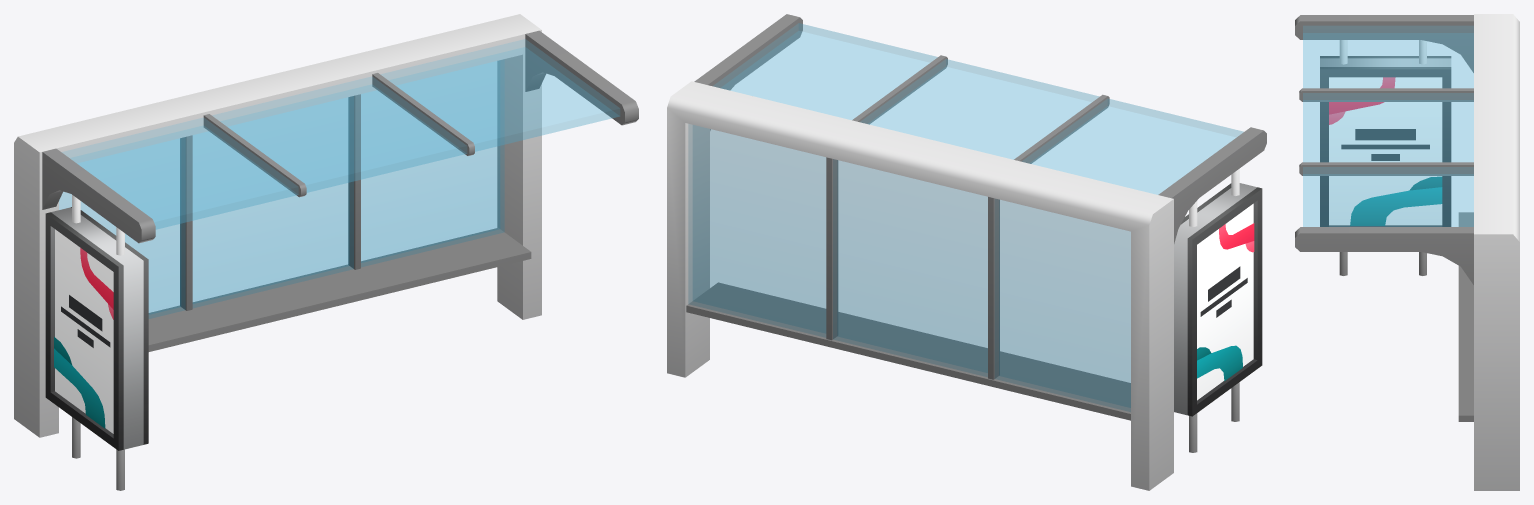
Rendered from Bus_Stop_02.glb.
The picture shows the model from 3 angles, left to right: view 1: azimuth 30°, elevation 25°; view 2: azimuth 150°, elevation 25°; view 3: azimuth 270°, elevation 25°; orthographic projection. The views are drawn at different scales.
Visible parts, largest first — view 1: Bus_Stop_02; view 2: Bus_Stop_02; view 3: Bus_Stop_02.
Boxes of the visible parts, x1,y1,x2,y2 form: Bus_Stop_02: (14, 14, 638, 490); Bus_Stop_02: (667, 14, 1266, 490); Bus_Stop_02: (1295, 14, 1519, 490).
Bounding box in the file's own units: 4.66 × 2.5 × 1.98.
Materials: 2 (2 with a texture image).
